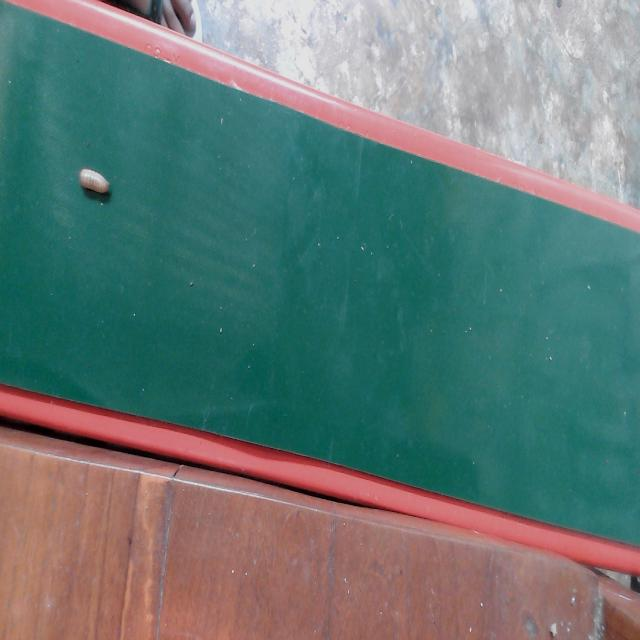Maggot: (76, 167, 112, 204)
